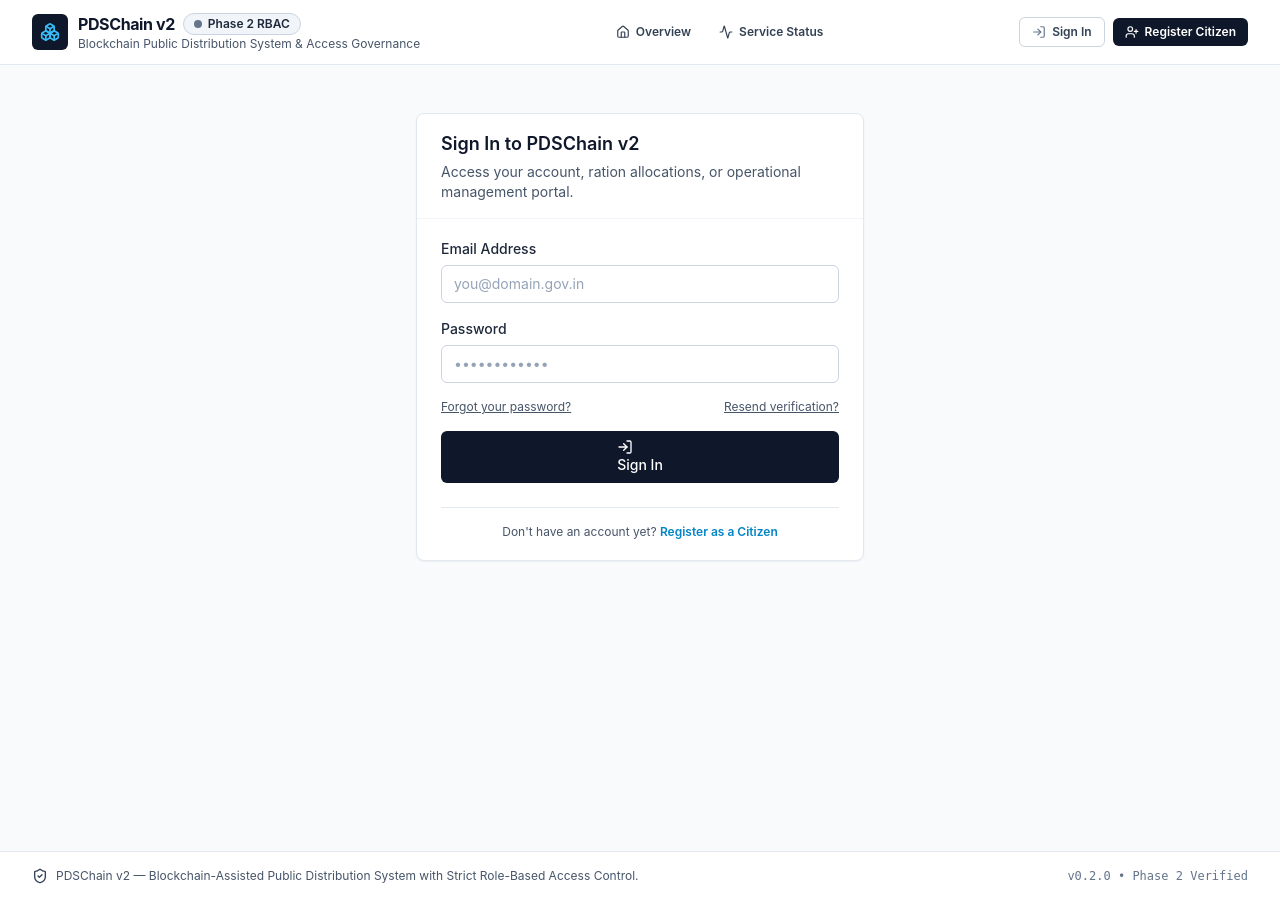
Test: PDSChain v2 Auth & RBAC Frontend Unit Tests › displays API error message on invalid credentials login attempt
Type "wrong@example.com" into the field labelled "Email Address". click: (640, 284)
box: top-left (441, 265), bottom-right (839, 303)
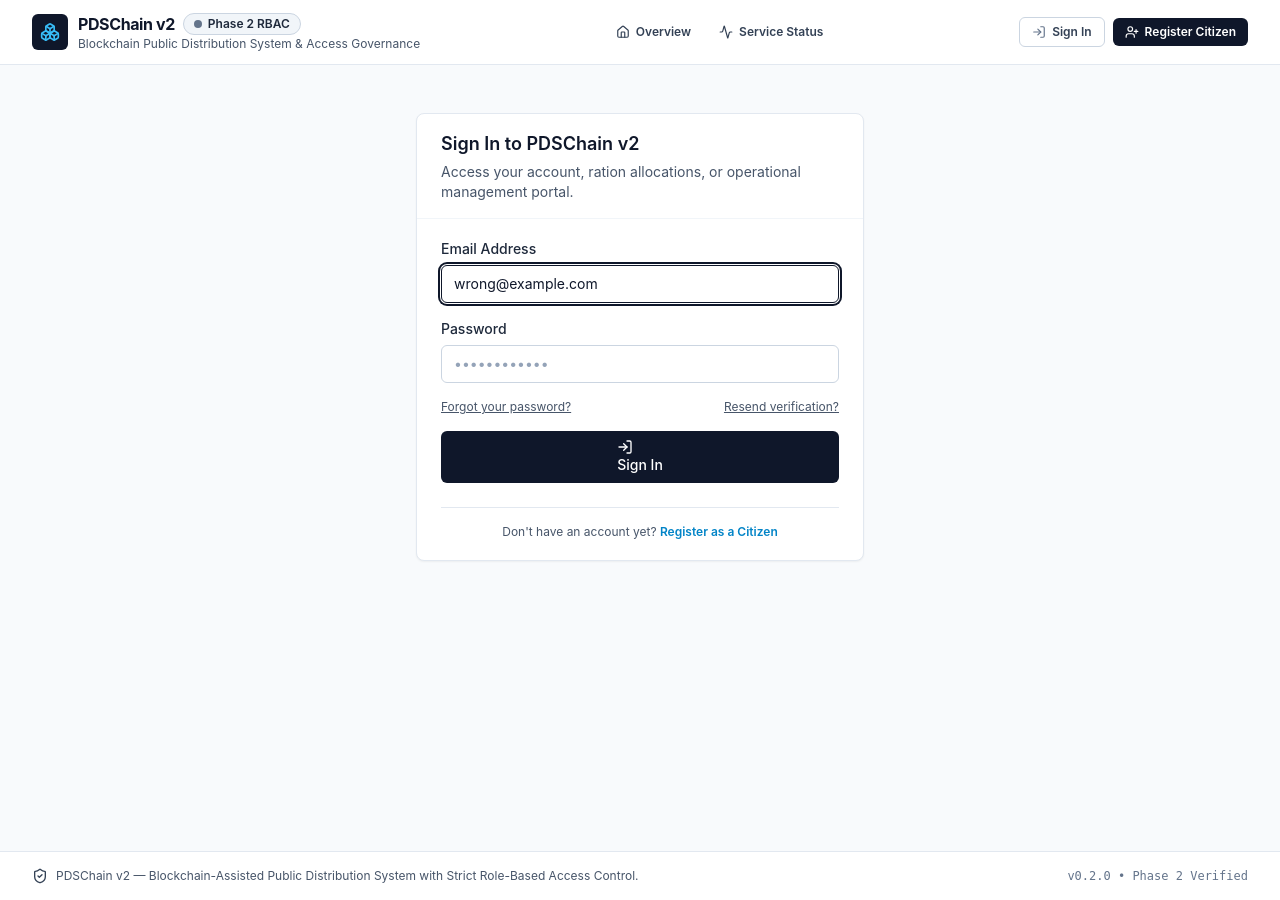
Type "WrongPass123!" into the password field labelled "Password". click: (640, 364)
box: top-left (441, 345), bottom-right (839, 383)
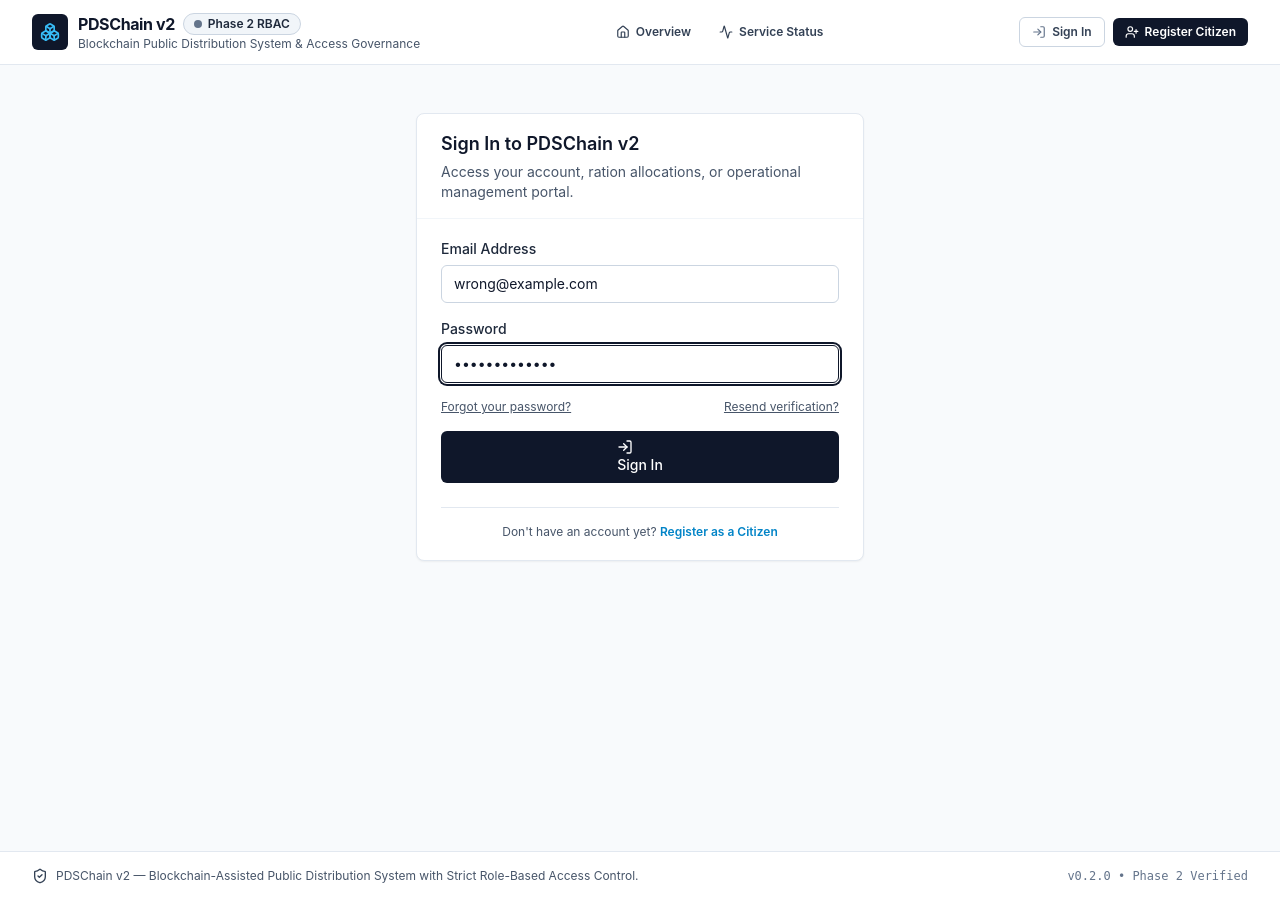
Click the button "Sign In". click: click(640, 457)
box: top-left (441, 431), bottom-right (839, 483)
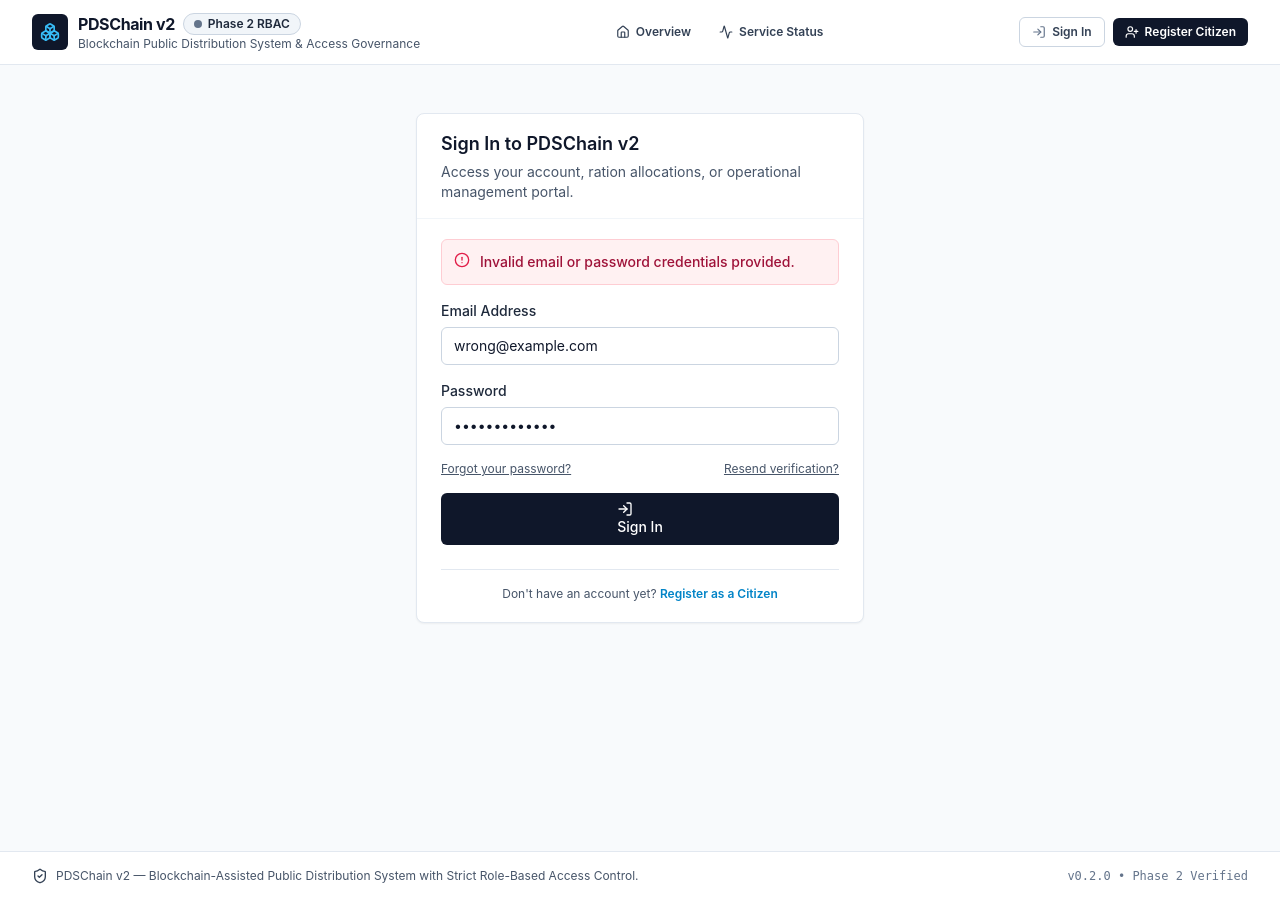
Now the text "Invalid email or password credentials provided." is shown, box top-left (480, 252), bottom-right (826, 272)
